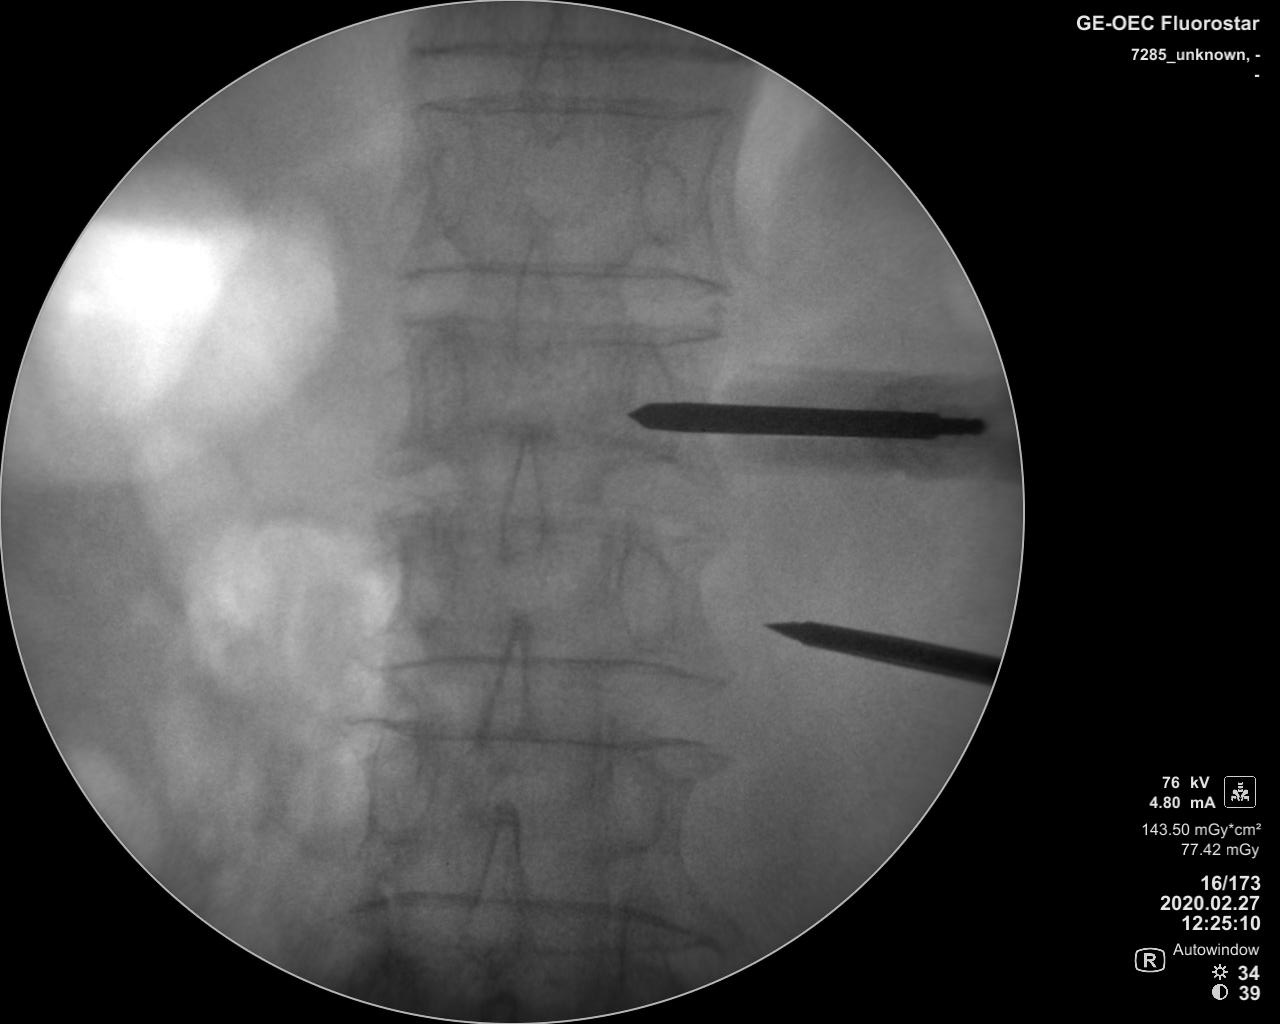eyes: (615, 544, 679, 648), (372, 726, 430, 835), (602, 751, 660, 852), (414, 341, 468, 443), (398, 541, 457, 635), (634, 157, 692, 248), (622, 347, 673, 446), (420, 147, 470, 236)
line: (358, 712, 717, 754), (346, 891, 726, 929), (372, 651, 723, 689), (391, 260, 730, 296), (392, 316, 731, 347), (403, 92, 728, 123), (399, 41, 724, 63)
nose: (463, 795, 529, 979), (478, 619, 536, 777), (495, 423, 548, 569), (513, 218, 560, 376), (526, 9, 576, 147)
